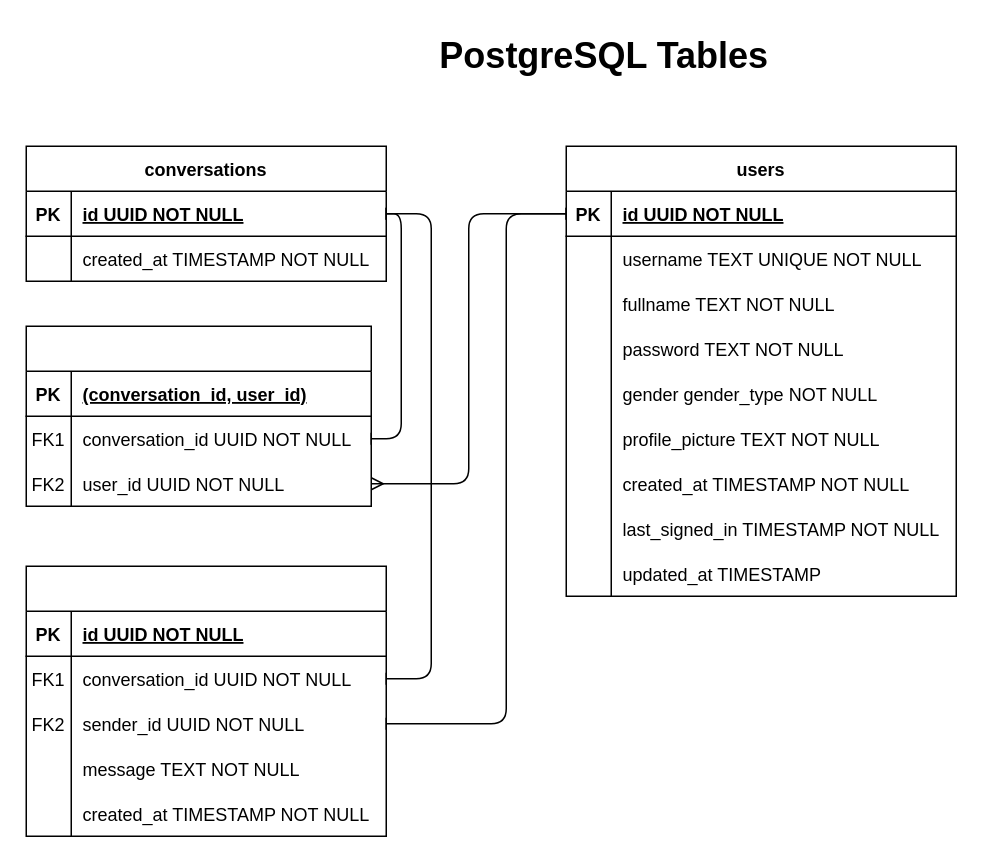
This 983x863 diagram has some shape labels left out. The shapes that lost their labels are listed below. From the top down, each one's box as (x1, y1, x2, y2) in pixels, then its label:
(25, 325, 371, 506): conversation_participants
(25, 565, 386, 836): messages
